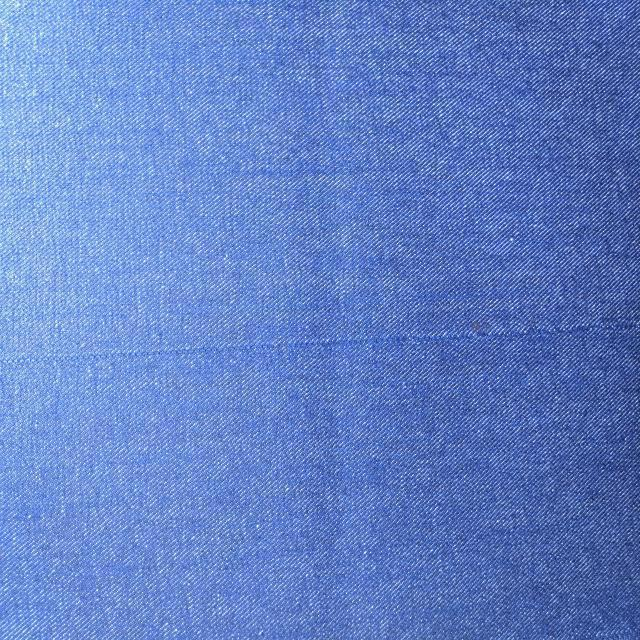Line: (0, 315, 640, 373)
